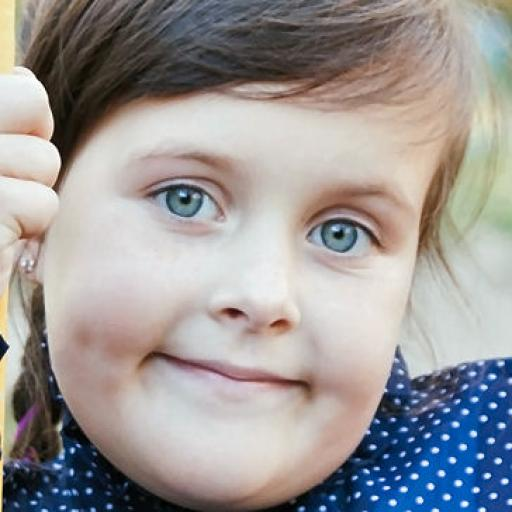Autism: (16, 10, 512, 498)
